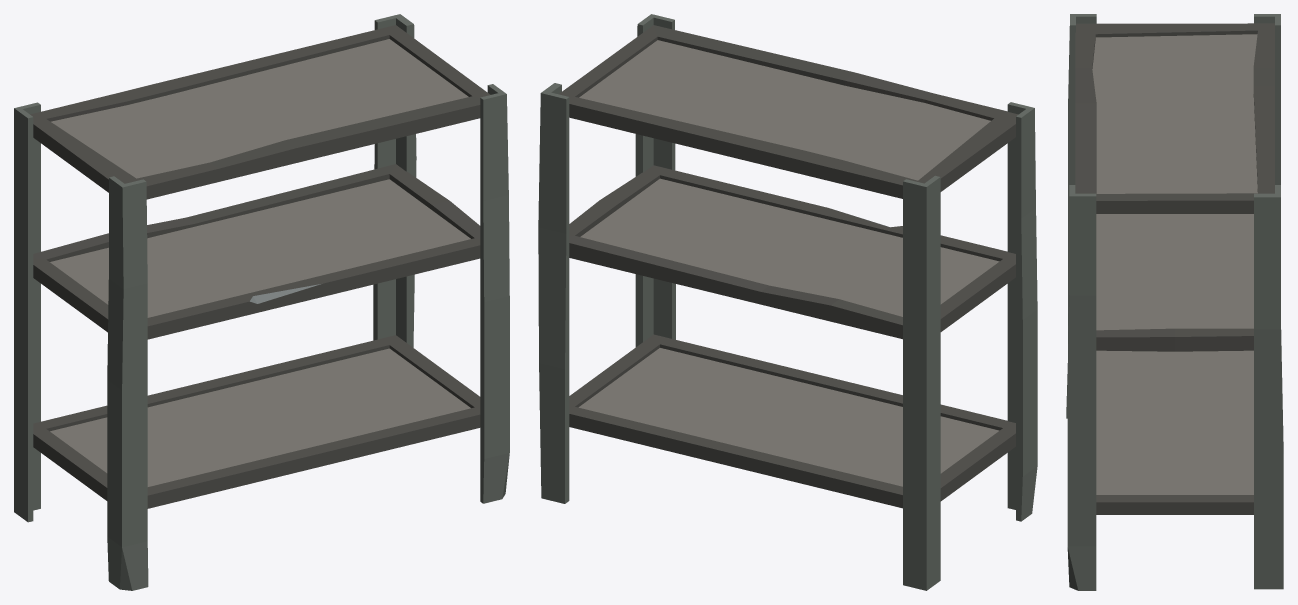
Rendered from SM_Rack_B.fbx.
3 renders of one model, left to right at view 1: azimuth 30°, elevation 25°; view 2: azimuth 150°, elevation 25°; view 3: azimuth 270°, elevation 25°, orthographic. The views are drawn at different scales.
Visible parts, largest first — view 1: SM_Rack_B; view 2: SM_Rack_B; view 3: SM_Rack_B.
Part boxes in pixels (x1,y1,x2,y2): SM_Rack_B: (14, 14, 509, 590); SM_Rack_B: (538, 14, 1037, 590); SM_Rack_B: (1066, 14, 1283, 590).
Size of the model in its own units: 202 by 200 by 100.
